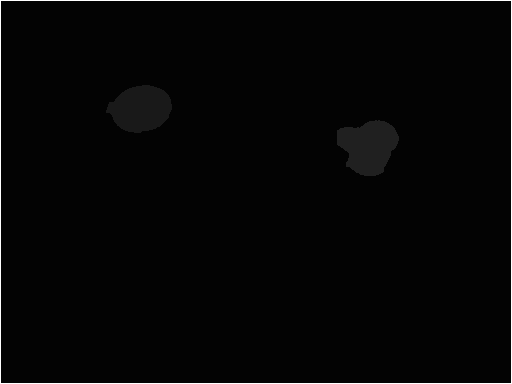cup: (335, 119, 400, 177)
speaker: (104, 85, 173, 135)
